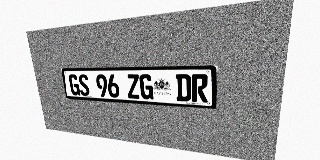6: (106, 74, 120, 98)
9: (95, 74, 109, 97)
D: (176, 74, 191, 102)
G: (139, 74, 153, 100), (68, 74, 80, 96)
R: (192, 74, 208, 103)
S: (78, 74, 90, 96)
Z: (126, 74, 140, 99)
